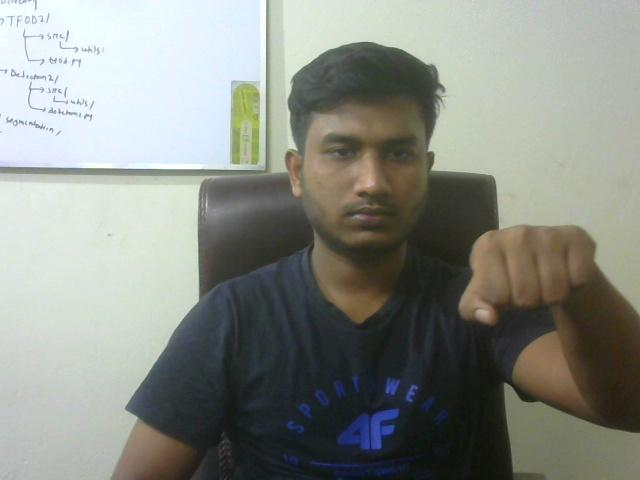Yes: (440, 209, 610, 345)
